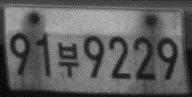1: (35, 32, 52, 76)
2: (132, 35, 157, 81), (107, 35, 131, 79)
9: (156, 35, 179, 81), (9, 32, 31, 76), (82, 34, 104, 78)
부: (56, 40, 79, 78)
